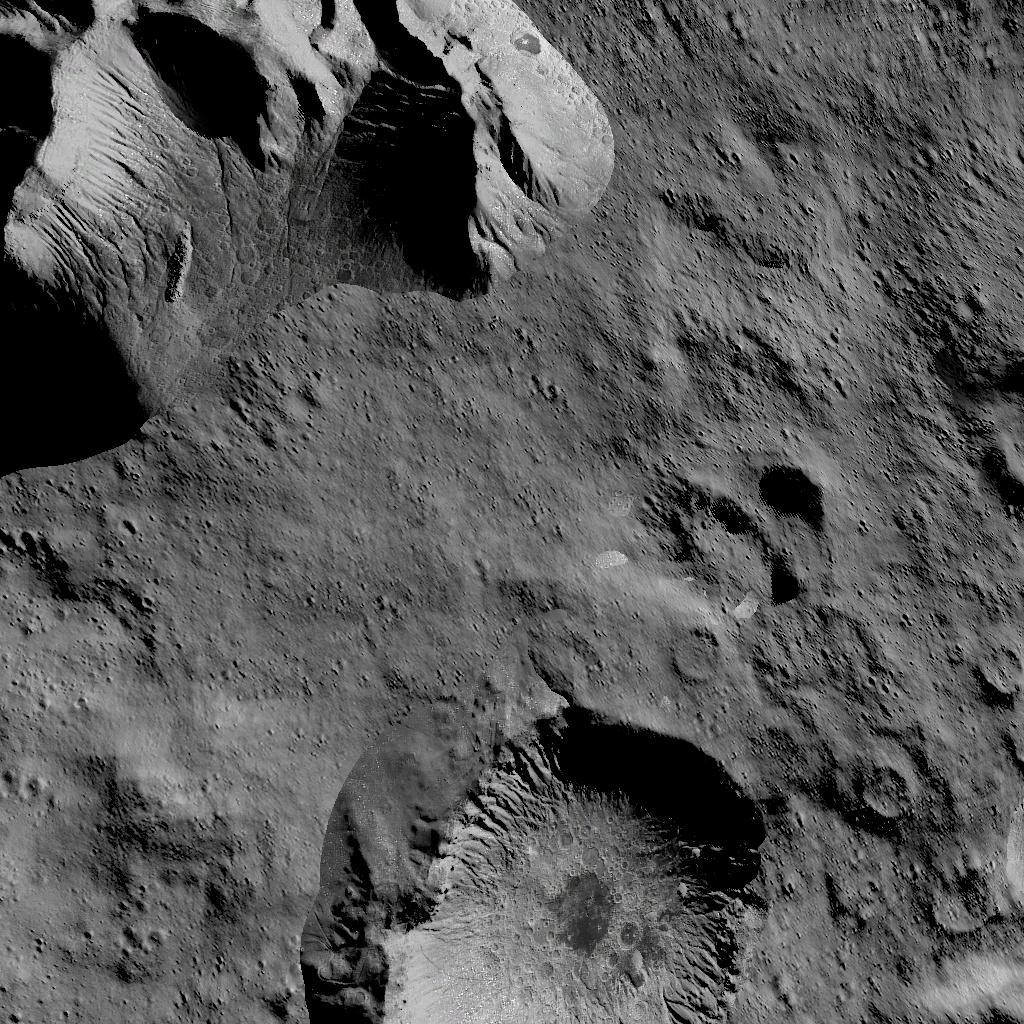Boulders: (0, 0, 613, 444)
Crater: (278, 698, 756, 1024), (676, 464, 828, 608), (954, 632, 1024, 880), (925, 362, 1024, 521), (669, 620, 730, 684), (850, 760, 911, 822)
Plan surface: (3, 454, 589, 688), (637, 0, 903, 438), (3, 696, 259, 1020)
